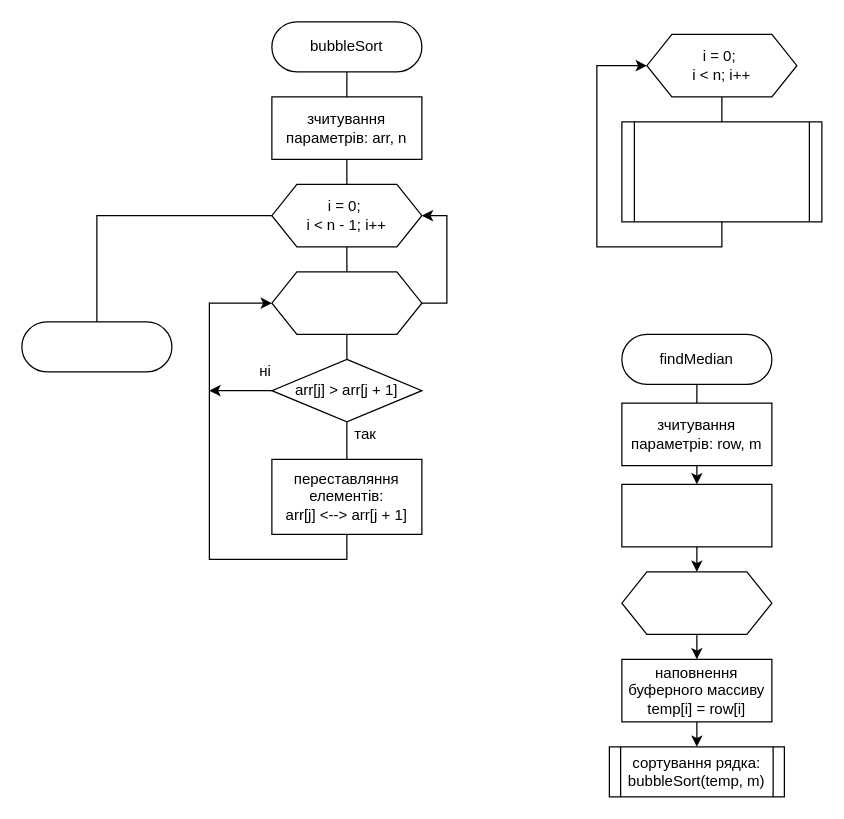
The diagram is 844 pixels wide and 819 high, and some of its shapes have lost their labels. The shapes that lost their labels are listed below. From the top down, each one's centre as x and y in pixels, then its label:
point (721, 171): пошук медіани: medians[i] = findMedian(A[i], m)
point (346, 302): j = 0; j < n - i - 1; j++
point (96, 346): ВИХІД
point (696, 515): створення буферного массиву temp
point (696, 602): i = 0; i < m; i++
